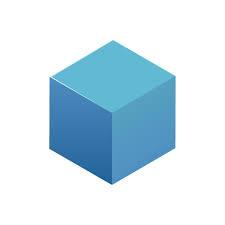cubos: (44, 37, 183, 190)
